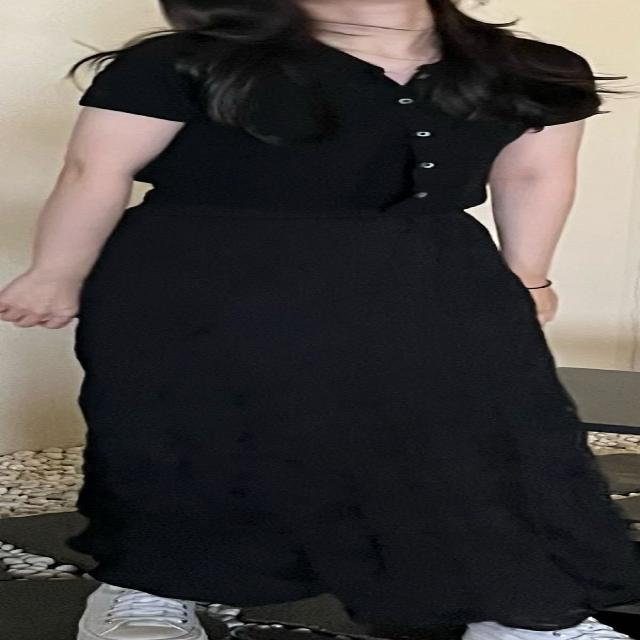cardigan: (83, 31, 600, 208)
skirt: (72, 208, 640, 636)
